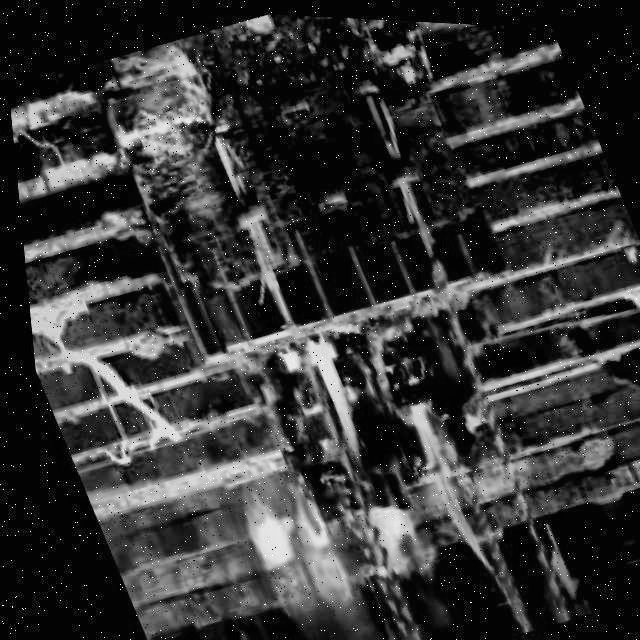Fire: (270, 293, 497, 587)
